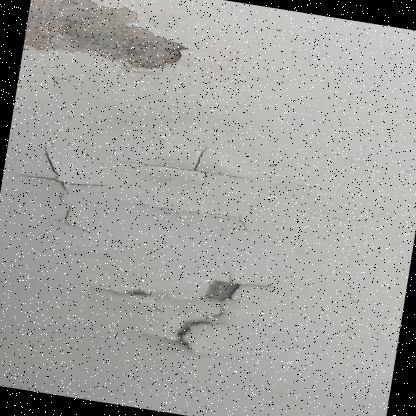Crack: (0, 108, 308, 274), (39, 242, 306, 385), (18, 0, 212, 107)
